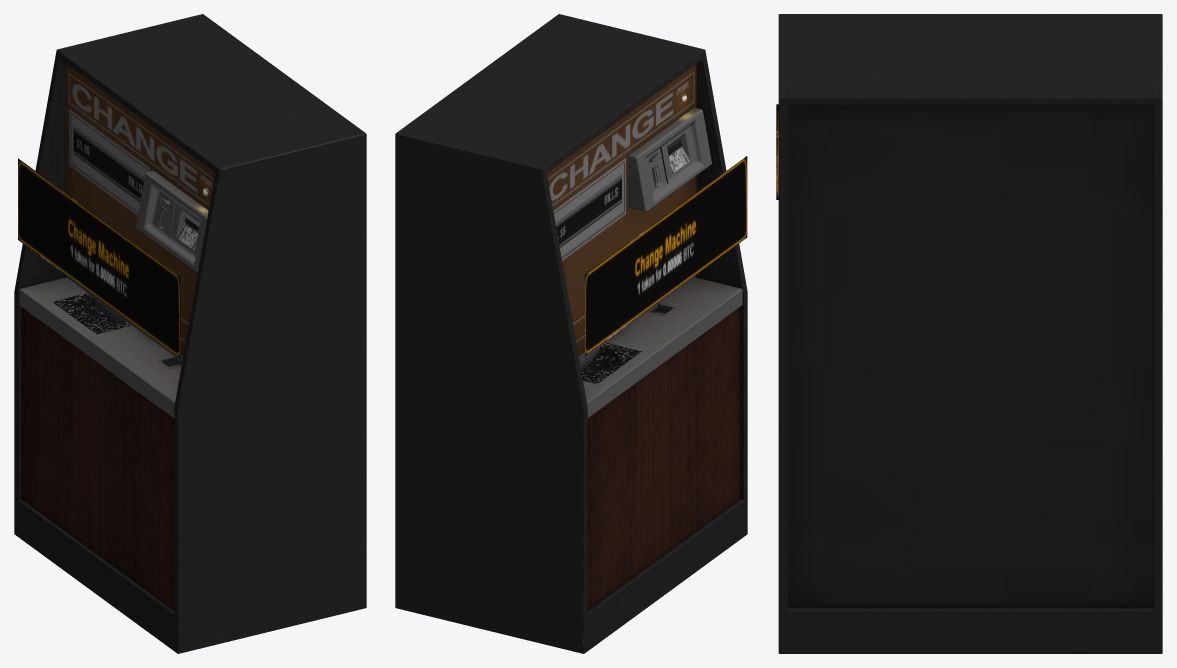
File: changemachine.obj
The picture shows the model from 3 angles, left to right: view 1: azimuth 30°, elevation 25°; view 2: azimuth 150°, elevation 25°; view 3: azimuth 270°, elevation 25°; orthographic projection. The views are drawn at different scales.
Visible parts, largest first — view 1: cabinet_001_Mesh_62; view 2: cabinet_001_Mesh_62; view 3: cabinet_001_Mesh_62.
Part boxes in pixels (bbox=[...]): cabinet_001_Mesh_62: bbox=[14, 14, 366, 653]; cabinet_001_Mesh_62: bbox=[395, 14, 747, 653]; cabinet_001_Mesh_62: bbox=[776, 14, 1162, 653].
Size of the model in its own units: 0.605 by 1.45 by 0.9127.
Materials: 2 (2 with a texture image).
